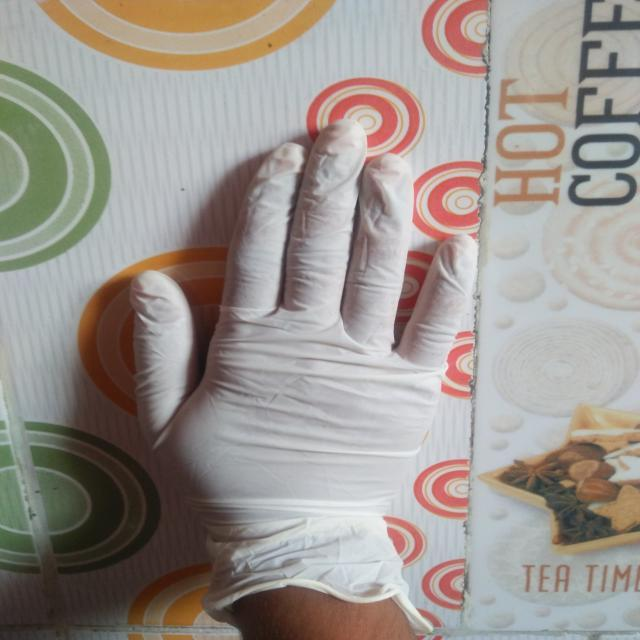glove_hand: (115, 120, 489, 630)
